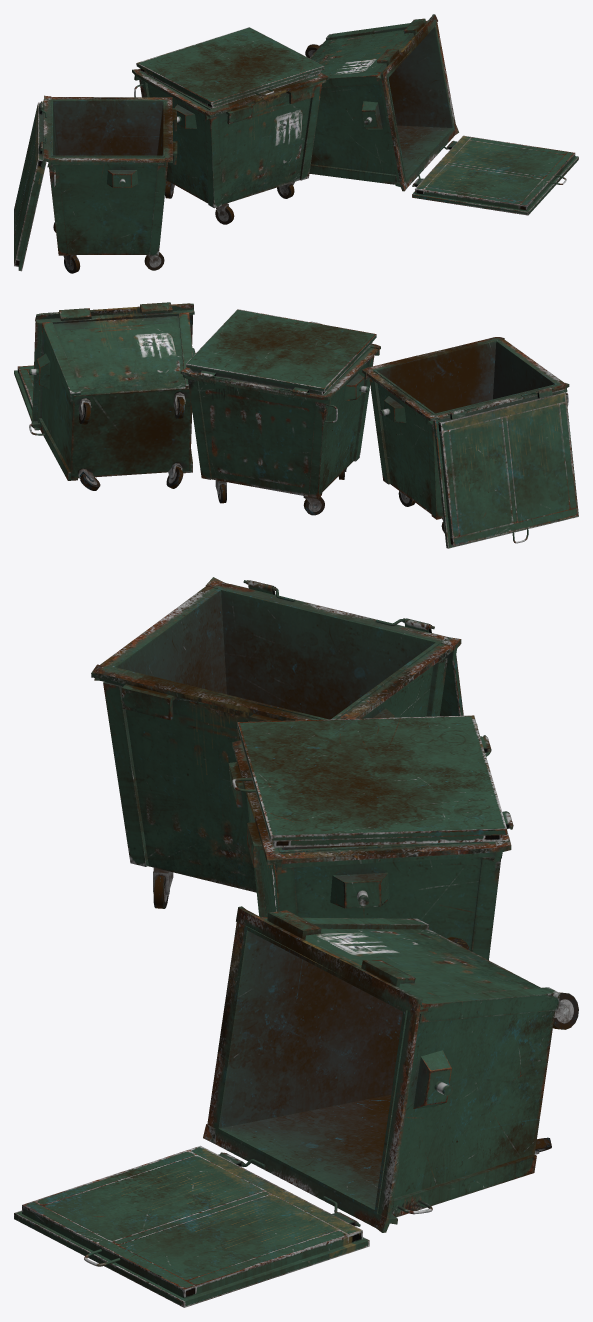
File: trash_can.glb
3 renders of one model, top to bottom at view 1: azimuth 30°, elevation 25°; view 2: azimuth 150°, elevation 25°; view 3: azimuth 270°, elevation 25°, orthographic. The views are drawn at different scales.
Visible parts, largest first — view 1: trash_can_finish (×2), trash_can_finish1, cap (×2), cap1; view 2: trash_can_finish (×2), cap (×2), trash_can_finish1, cap1, wheel_3, wheel_5; view 3: trash_can_finish1, trash_can_finish (×2), cap (×2), cap1.
Boxes of the visible parts, bbox=[...] form: trash_can_finish (×2): bbox=[41, 68, 329, 255]; trash_can_finish1: bbox=[309, 14, 458, 191]; cap (×2): bbox=[14, 27, 324, 271]; cap1: bbox=[412, 135, 578, 215]; trash_can_finish (×2): bbox=[180, 337, 569, 519]; cap (×2): bbox=[185, 309, 578, 548]; trash_can_finish1: bbox=[29, 302, 195, 480]; cap1: bbox=[14, 365, 39, 430]; wheel_3: bbox=[303, 496, 324, 515]; wheel_5: bbox=[166, 463, 183, 488]; trash_can_finish1: bbox=[203, 906, 560, 1232]; trash_can_finish (×2): bbox=[91, 577, 512, 960]; cap (×2): bbox=[231, 580, 513, 847]; cap1: bbox=[14, 1145, 369, 1307].
Bounding box in the file's own units: 5.55 × 1.35 × 2.59.
1 material, 1 textured.
